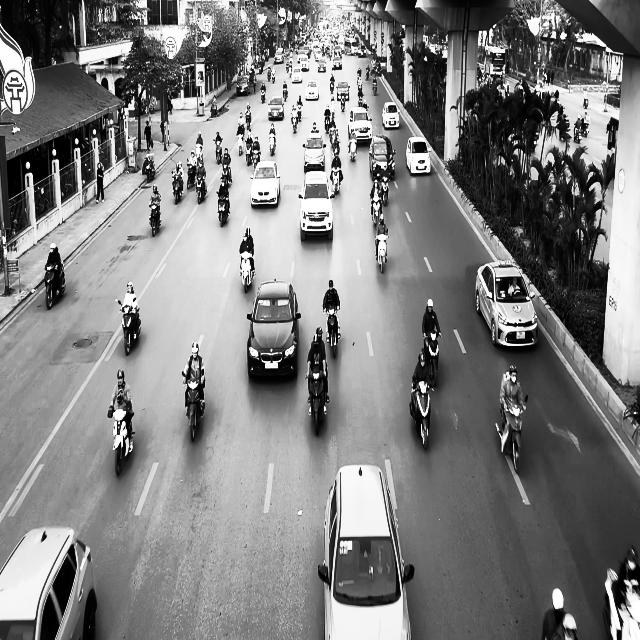bus: (484, 46, 506, 80)
car: (318, 463, 414, 640), (0, 525, 97, 639), (474, 258, 538, 348), (246, 279, 301, 379), (298, 170, 335, 241), (250, 160, 280, 208), (369, 134, 396, 179), (302, 131, 326, 172), (406, 136, 431, 175), (348, 106, 372, 144), (382, 101, 400, 129), (268, 96, 284, 120), (305, 80, 319, 100), (236, 76, 250, 96), (336, 81, 350, 101)
motorbike: (495, 394, 528, 474), (107, 403, 135, 476), (182, 371, 205, 442), (306, 365, 328, 436), (409, 379, 431, 449), (115, 298, 141, 355), (44, 260, 66, 310), (423, 331, 441, 387), (324, 306, 340, 358), (239, 249, 255, 293), (374, 229, 388, 273), (216, 190, 230, 227), (194, 169, 207, 204), (148, 201, 161, 236), (171, 171, 183, 204), (142, 153, 155, 182), (330, 166, 342, 194), (212, 138, 222, 164), (348, 135, 357, 161), (268, 132, 276, 155)
